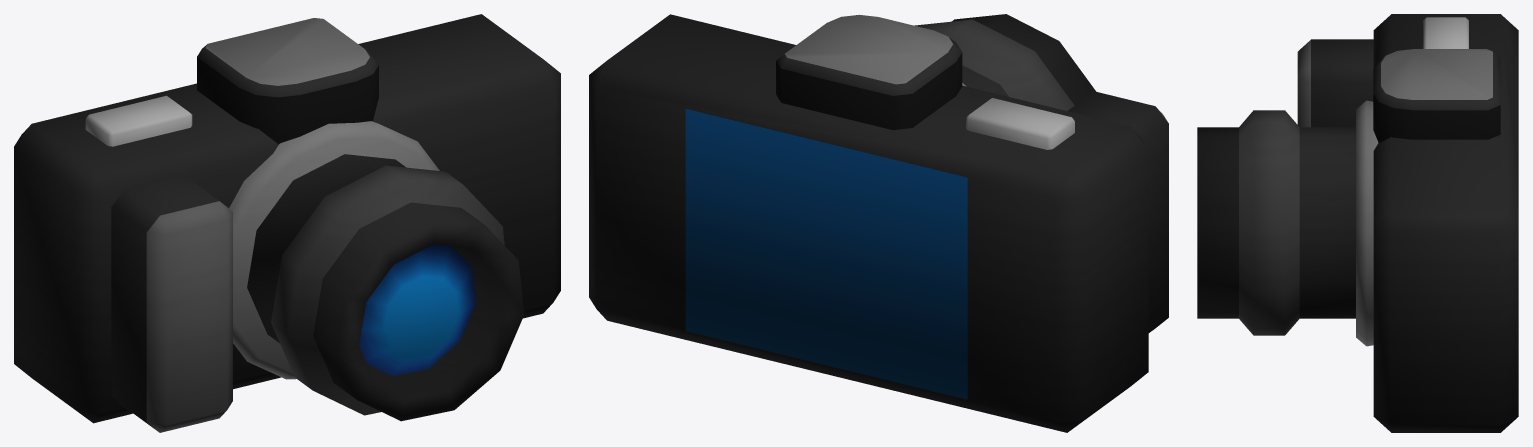
The model's file is SM_Props_37.fbx.
3 renders of one model, left to right at view 1: azimuth 30°, elevation 25°; view 2: azimuth 150°, elevation 25°; view 3: azimuth 270°, elevation 25°, orthographic. The views are drawn at different scales.
Parts seen in each view (by area): view 1: SM_Props_37; view 2: SM_Props_37; view 3: SM_Props_37.
Part boxes in pixels (x1,y1,x2,y2): SM_Props_37: (14, 14, 560, 432); SM_Props_37: (589, 14, 1168, 432); SM_Props_37: (1197, 14, 1518, 432).
Size of the model in its own units: 23.75 by 13.82 by 15.41.
1 material, 1 textured.
